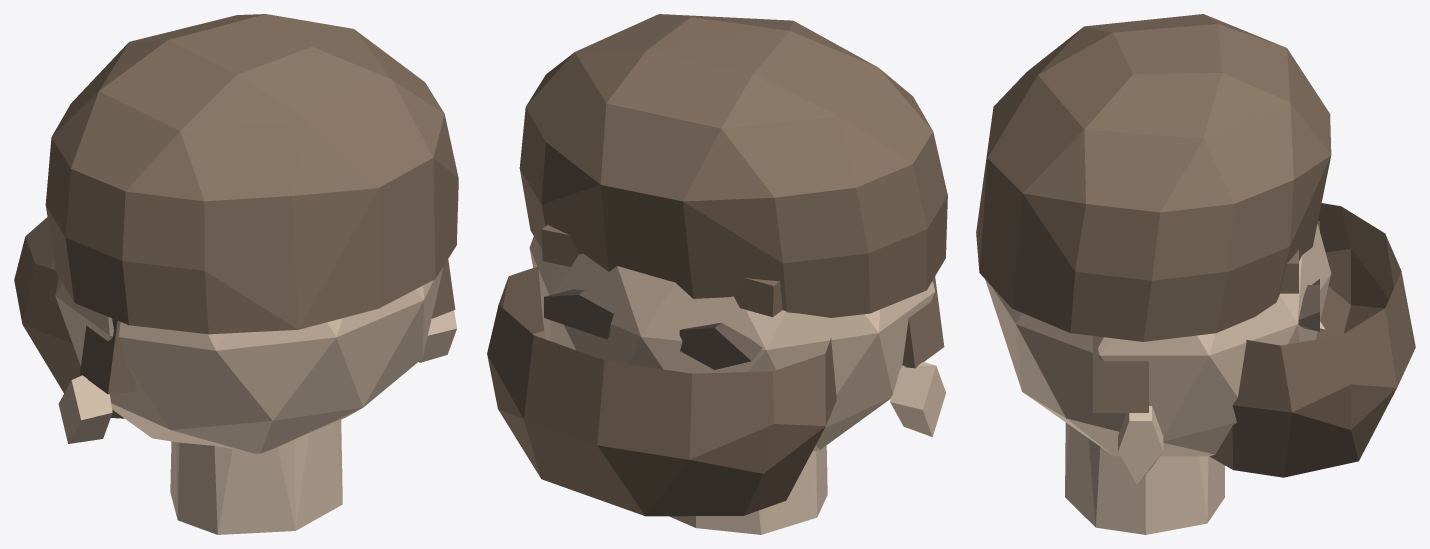
The model's file is 19-NPCs_cabeza_cuadrada.glb.
3 views of the same model, side by side, from view 1: azimuth 30°, elevation 25°; view 2: azimuth 150°, elevation 25°; view 3: azimuth 270°, elevation 25° (orthographic). The views are drawn at different scales.
Visible parts, largest first — view 1: SM_Cab_M_CabC_Cabello, SM_Cab_M_CabC_Piel; view 2: SM_Cab_M_CabC_Cabello, SM_Cab_M_CabC_Piel, SM_Cab_M_CabC_Ojos; view 3: SM_Cab_M_CabC_Cabello, SM_Cab_M_CabC_Piel, SM_Cab_M_CabC_Ojos.
Boxes of the visible parts, x1,y1,x2,y2 form: SM_Cab_M_CabC_Cabello: (14,14,458,418); SM_Cab_M_CabC_Piel: (55,267,456,534); SM_Cab_M_CabC_Cabello: (487,14,947,516); SM_Cab_M_CabC_Piel: (529,236,945,534); SM_Cab_M_CabC_Ojos: (544,289,762,369); SM_Cab_M_CabC_Cabello: (976,14,1415,477); SM_Cab_M_CabC_Piel: (985,224,1331,534); SM_Cab_M_CabC_Ojos: (1298,221,1319,331).
Size of the model in its own units: 0.31 by 0.3528 by 0.3136.
